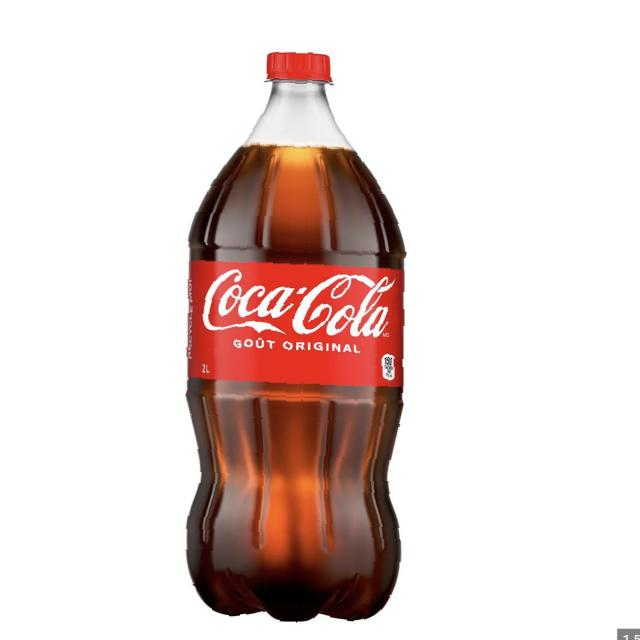recyclable: (153, 23, 469, 625)
